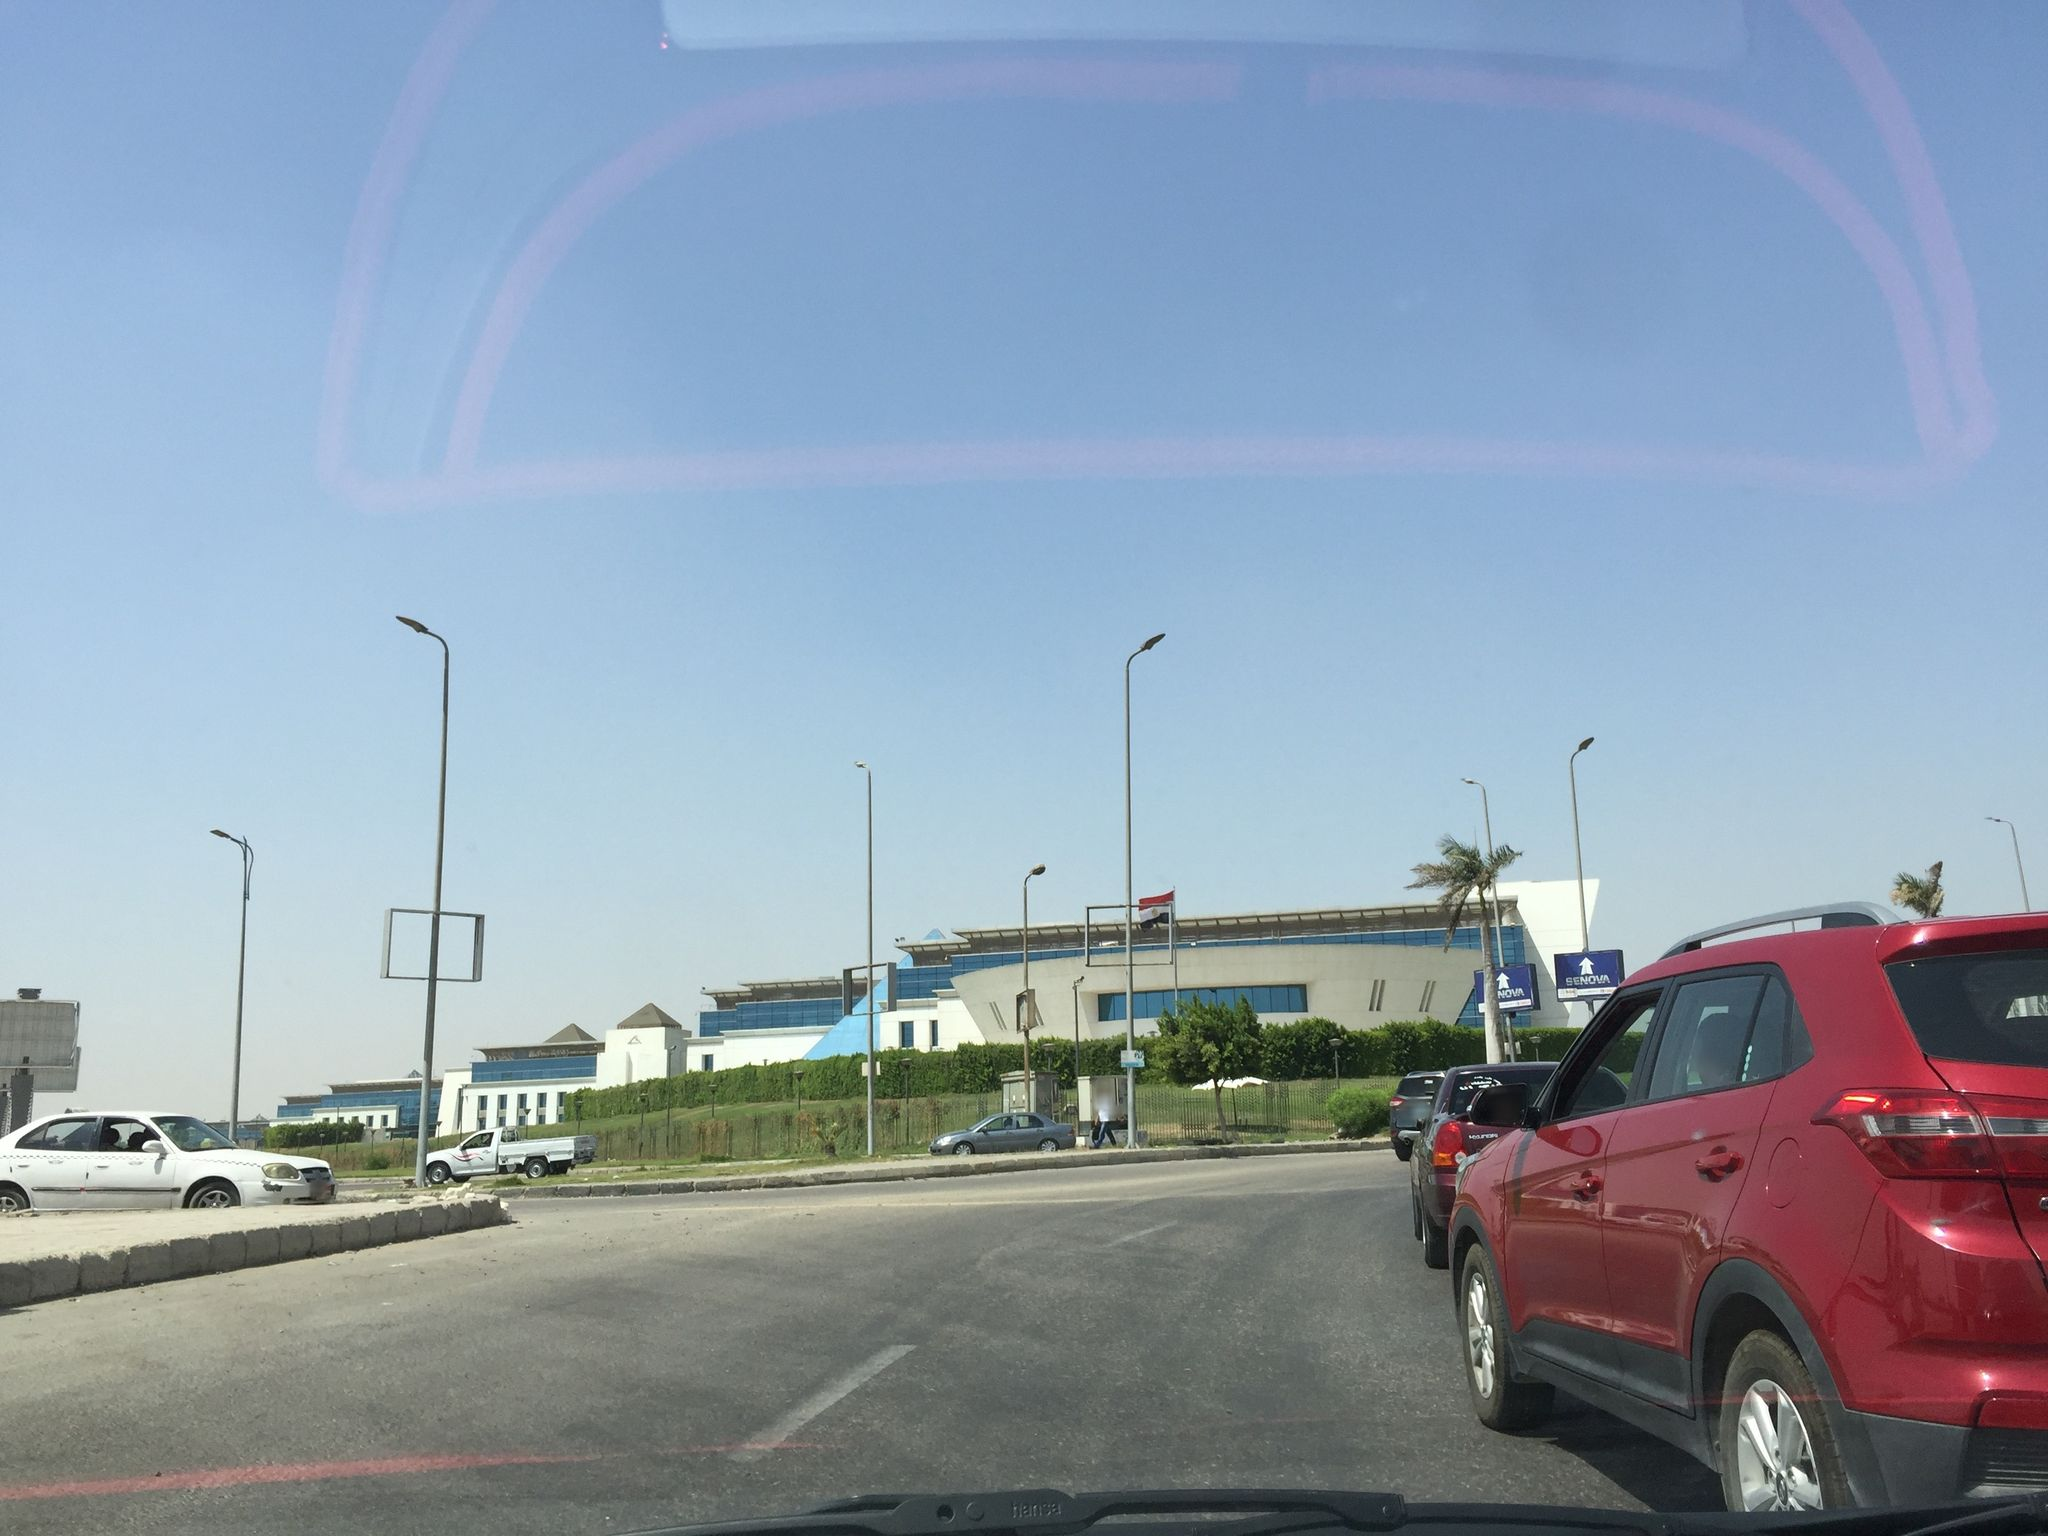car: (1435, 892, 2048, 1512), (1408, 1058, 1635, 1270), (0, 1107, 339, 1208), (927, 1112, 1077, 1155), (1388, 1068, 1447, 1163)
truck: (423, 1126, 597, 1181)
